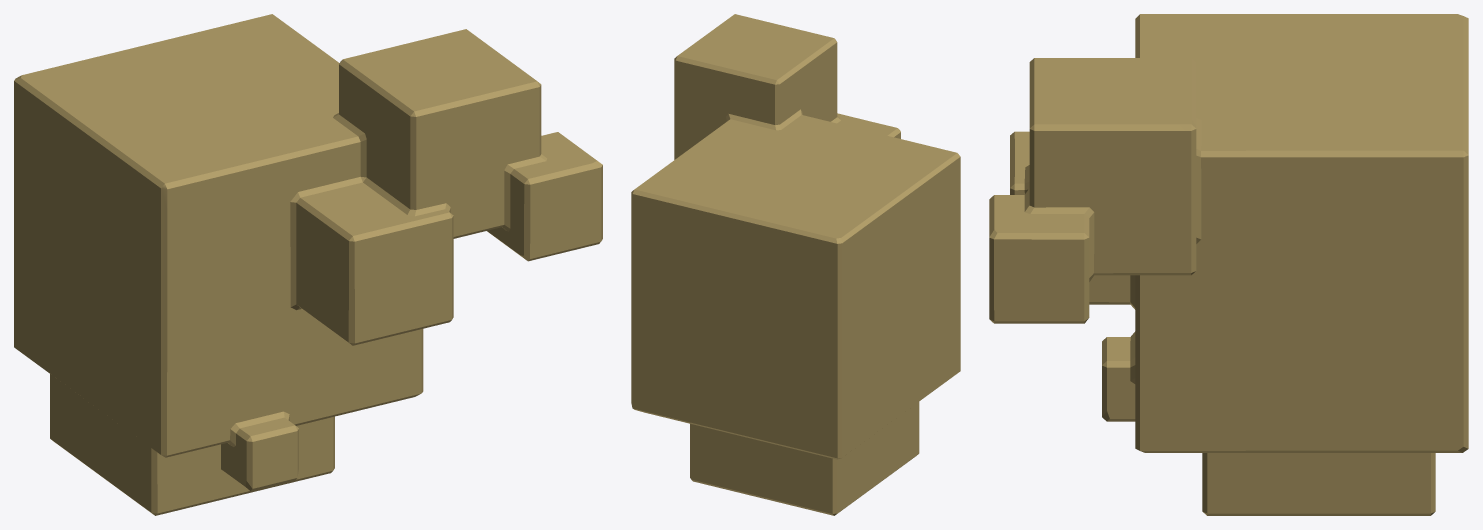
Rendered from houseki0502.fbx.
The picture shows the model from 3 angles, left to right: view 1: azimuth 30°, elevation 25°; view 2: azimuth 150°, elevation 25°; view 3: azimuth 270°, elevation 25°; orthographic projection. The views are drawn at different scales.
Visible parts, largest first — view 1: houseki5_0001:pCube7; view 2: houseki5_0001:pCube7; view 3: houseki5_0001:pCube7.
Part boxes in pixels (<box>): houseki5_0001:pCube7: <box>14,14,602,515</box>; houseki5_0001:pCube7: <box>631,14,960,515</box>; houseki5_0001:pCube7: <box>989,14,1468,515</box>.
Bounding box in the file's own units: 73.68 × 78.38 × 73.97.
